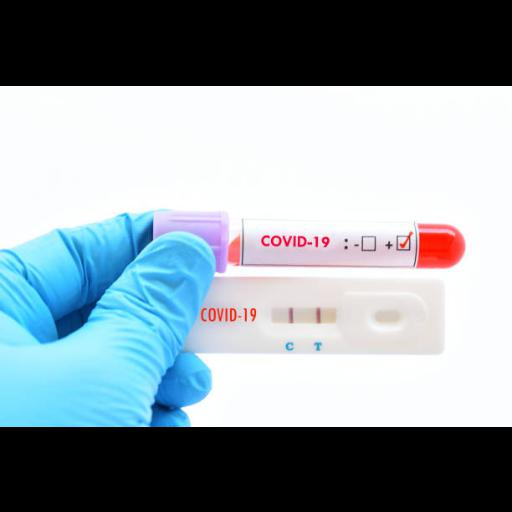Pos: (166, 275, 444, 351)
